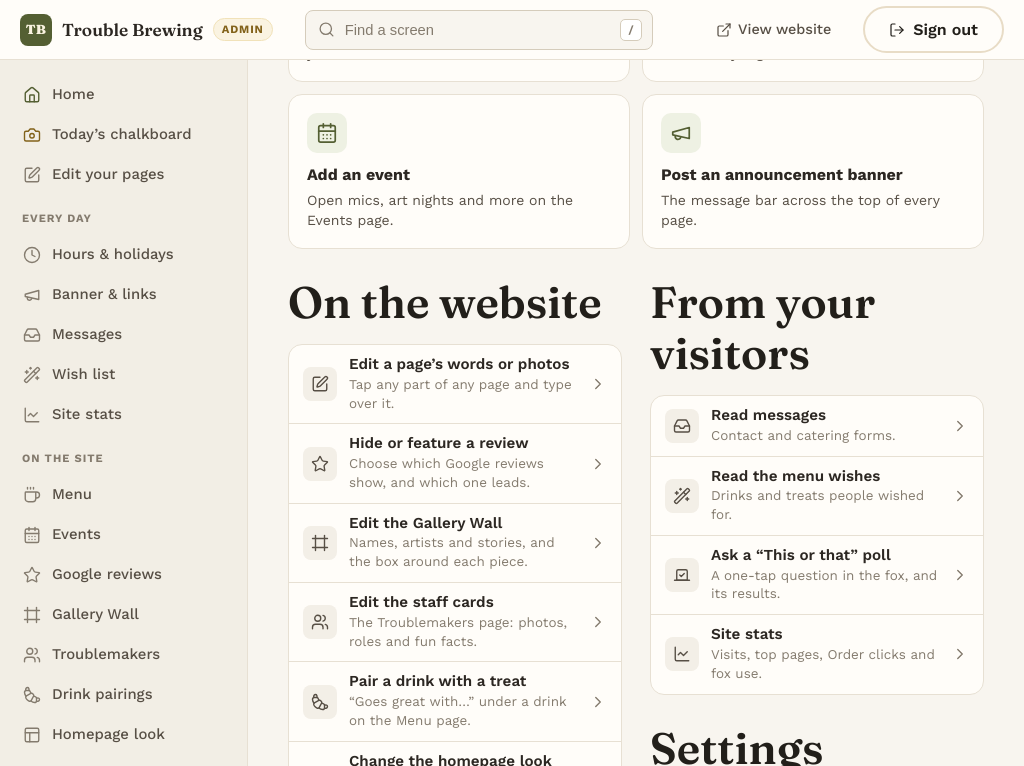
admin home › the "{}" row goes to /admin/editor and says what it changes
(page scrolled)
Click the link "Edit a page’s words or photos" at {"x": 455, "y": 384}, box [289, 345, 621, 423]
(page scrolled)
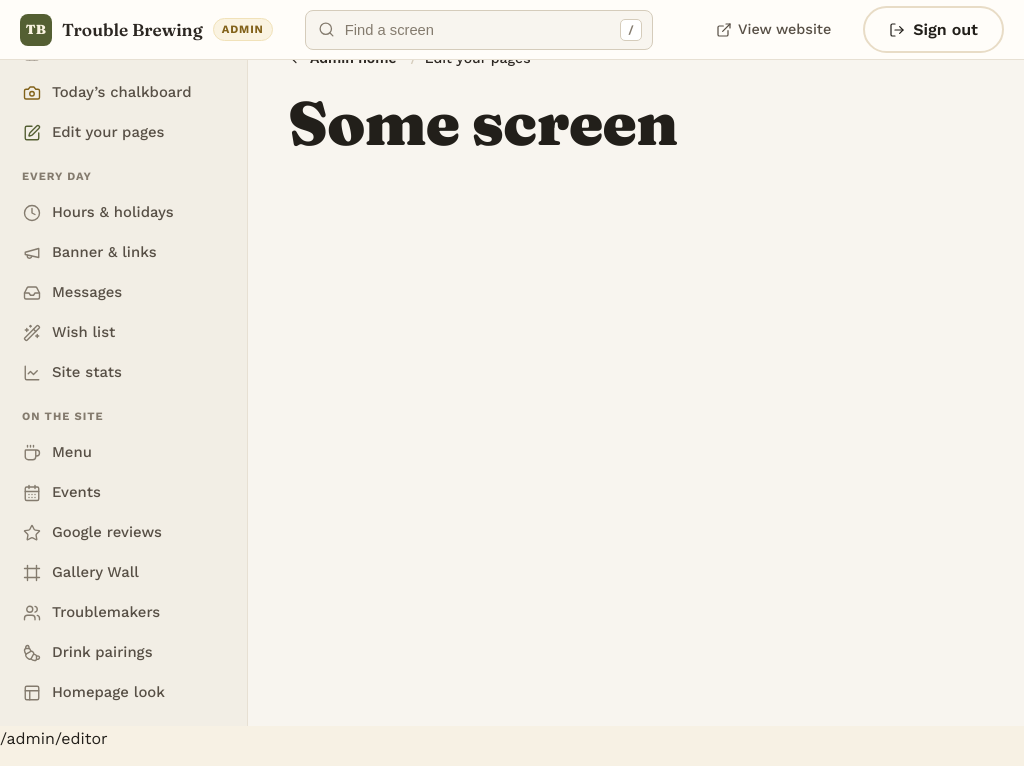
Check: the text with test id "where" reads "/admin/editor", box [0, 729, 108, 748]
